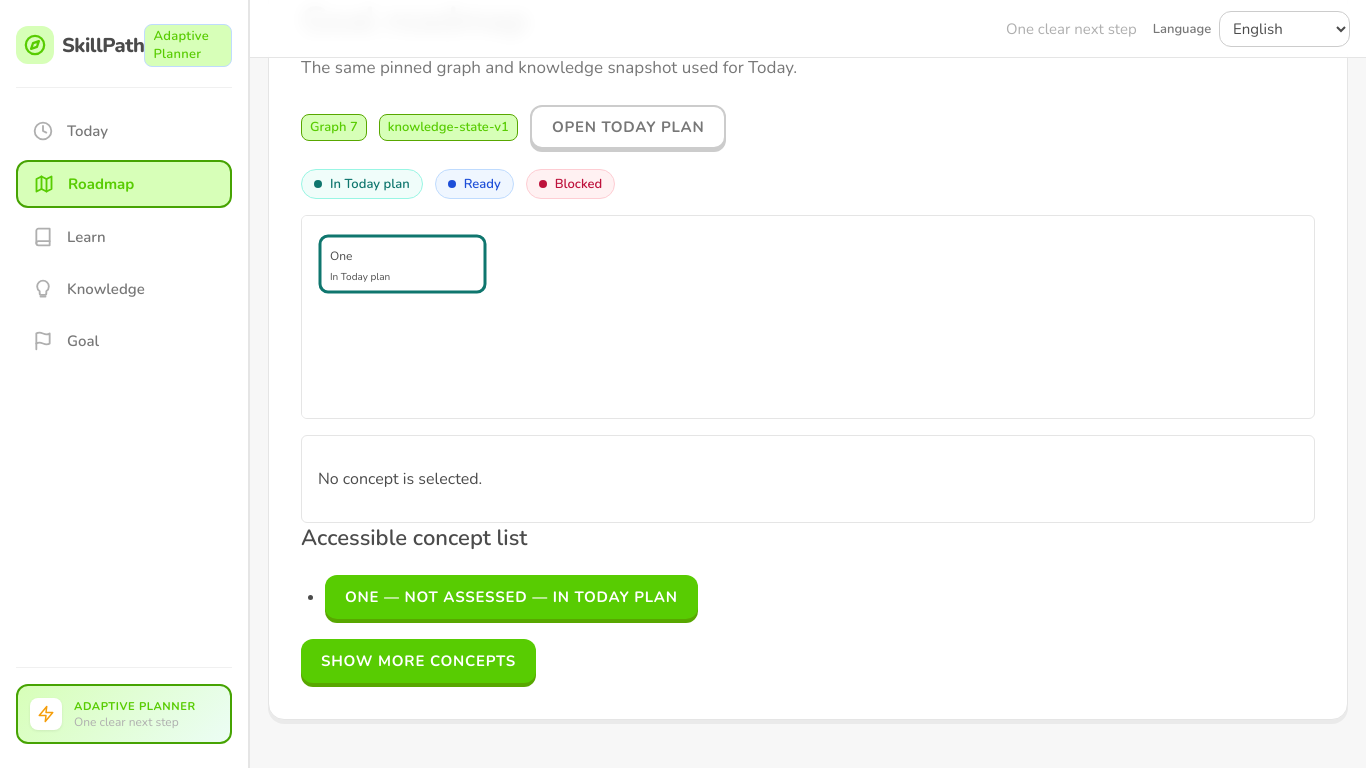
Test: Phase 6 Today and roadmap › refuses to merge roadmap pages with different projection stamps
(page scrolled)
What coordinates should you click on to do the following:
click the button "Show more concepts"
I would click on:
 (418, 661)
Its box is [301,639,536,683].
(page scrolled)
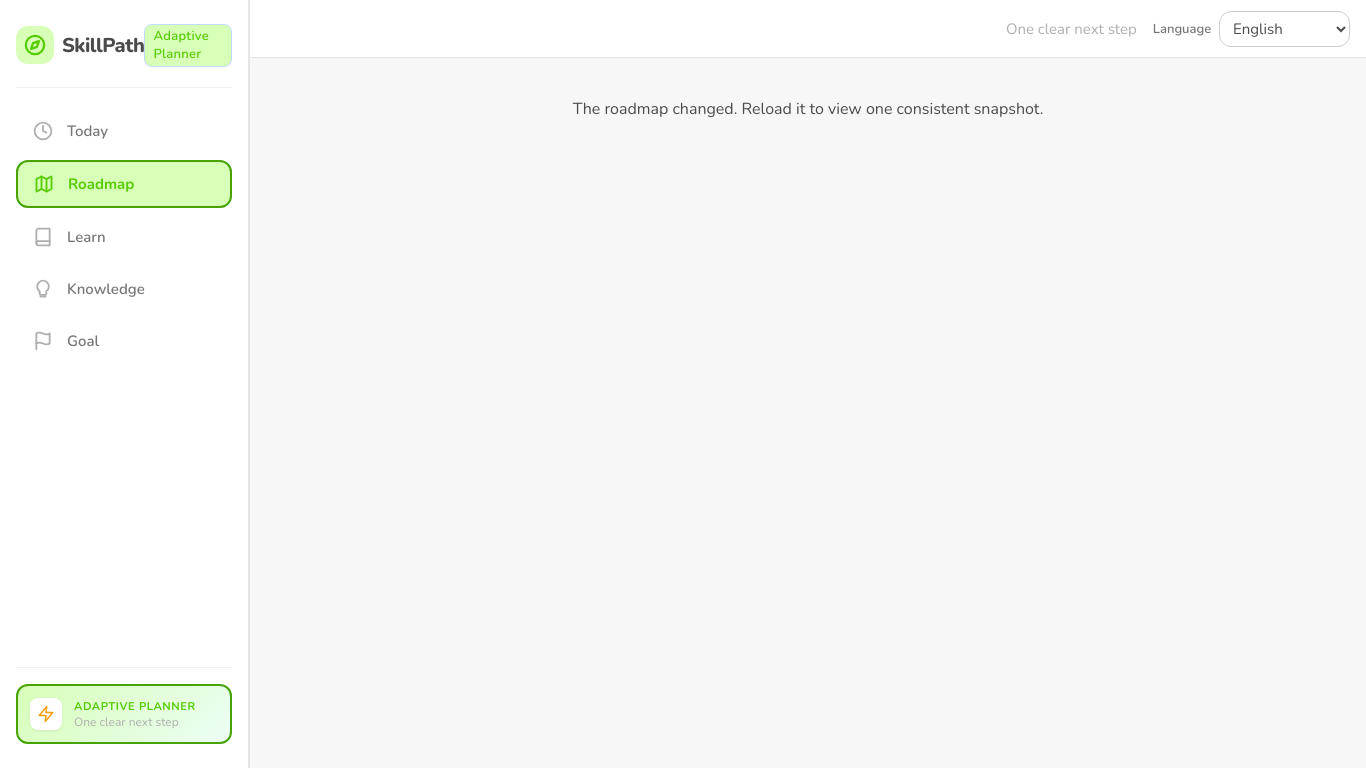
Result: the heading "Accessible concept list" is gone
